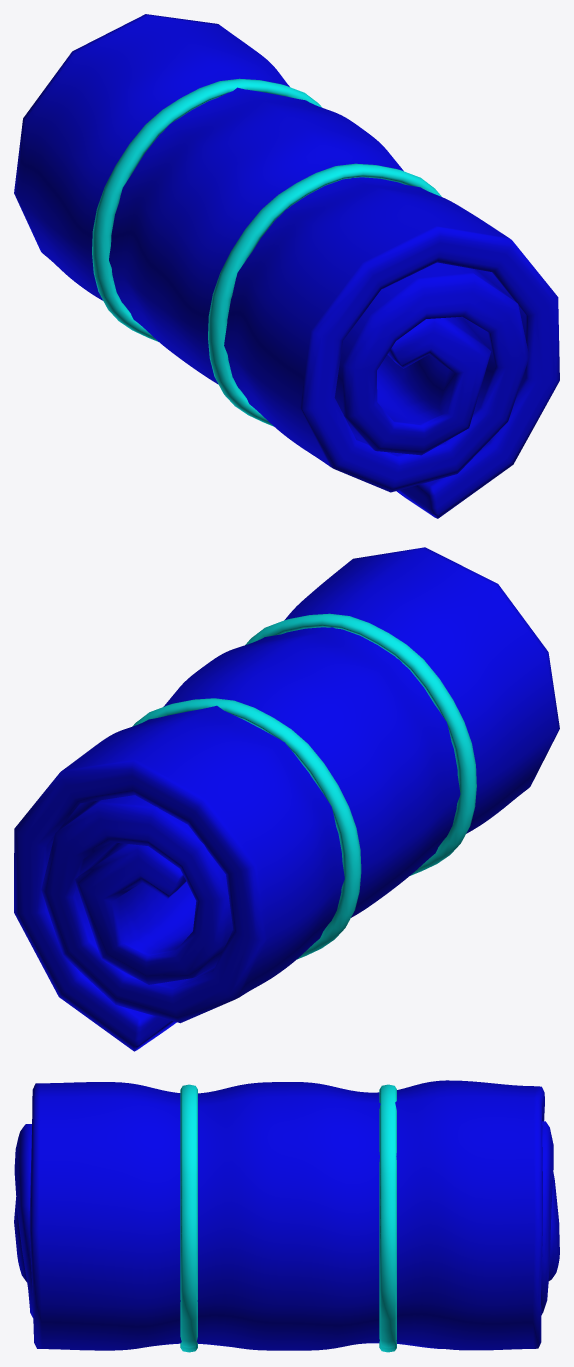
File: sac_de_couchage_02_Low.fbx
The picture shows the model from 3 angles, top to bottom: view 1: azimuth 30°, elevation 25°; view 2: azimuth 150°, elevation 25°; view 3: azimuth 270°, elevation 25°; orthographic projection. The views are drawn at different scales.
Parts seen in each view (by area): view 1: sac_de_couchage_02_Low; view 2: sac_de_couchage_02_Low; view 3: sac_de_couchage_02_Low.
Part boxes in pixels (x1=…): sac_de_couchage_02_Low: x1=14, y1=14, x2=559, y2=518; sac_de_couchage_02_Low: x1=14, y1=547, x2=559, y2=1051; sac_de_couchage_02_Low: x1=14, y1=1080, x2=559, y2=1352.
Bounding box in the file's own units: 0.5178 × 0.5481 × 1.08.
